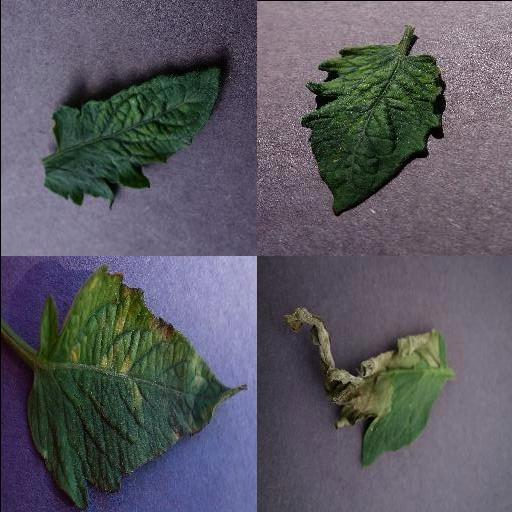Late Blight: (283, 306, 447, 466)
Leaf Mold: (24, 266, 246, 510)
Mosaic Virus: (39, 63, 221, 211), (300, 44, 446, 218)
